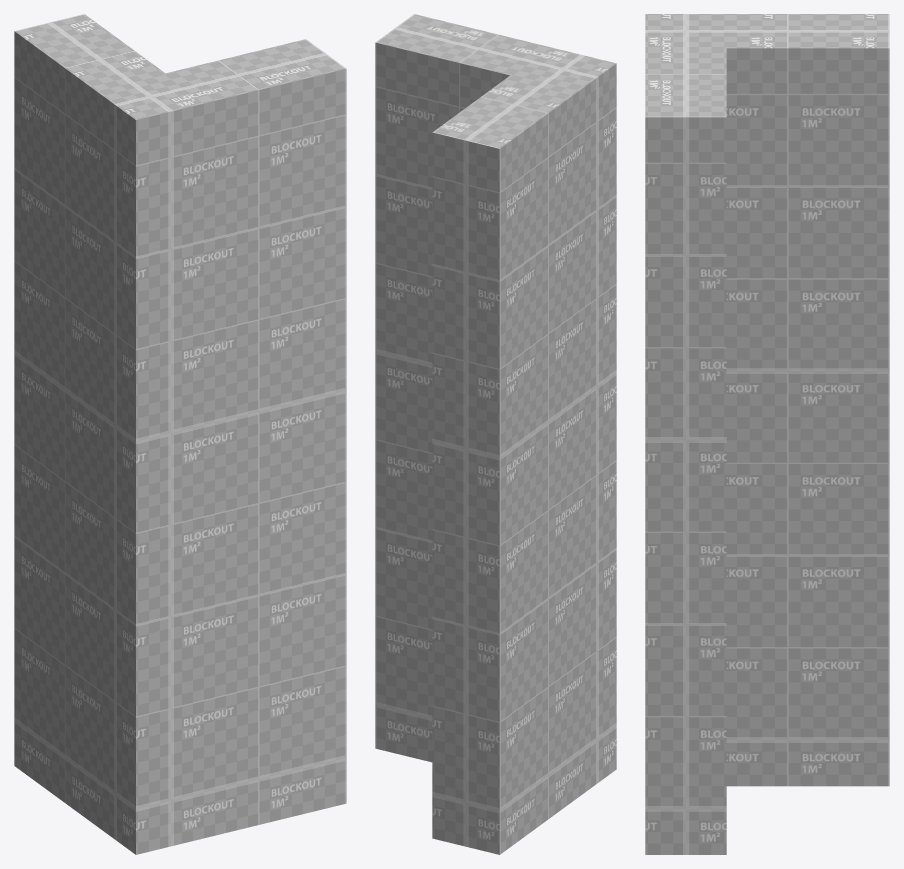
Rendered from BlockoutThickJunctionTwoWay.fbx.
3 renders of one model, left to right at view 1: azimuth 30°, elevation 25°; view 2: azimuth 150°, elevation 25°; view 3: azimuth 270°, elevation 25°, orthographic. The views are drawn at different scales.
Parts seen in each view (by area): view 1: BlockoutThickJunctionTwoWay; view 2: BlockoutThickJunctionTwoWay; view 3: BlockoutThickJunctionTwoWay.
Boxes of the visible parts, x1=… form: BlockoutThickJunctionTwoWay: x1=14, y1=14, x2=346, y2=854; BlockoutThickJunctionTwoWay: x1=375, y1=14, x2=616, y2=854; BlockoutThickJunctionTwoWay: x1=645, y1=14, x2=889, y2=854.
Size of the model in its own units: 240 by 800 by 240.
